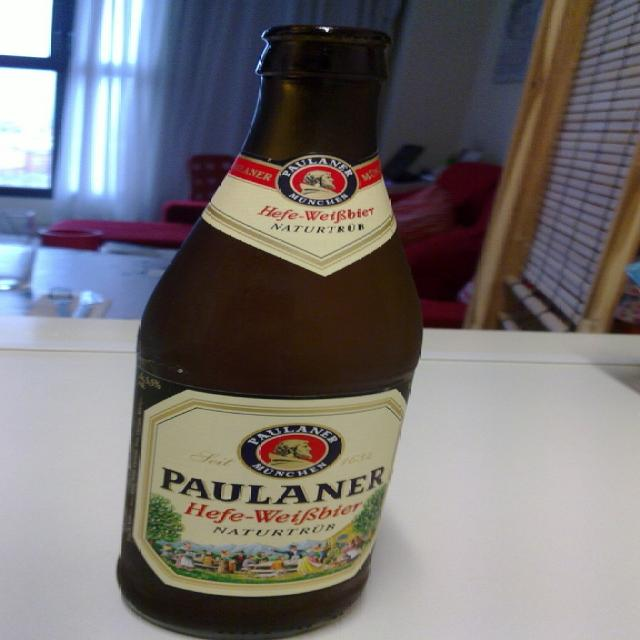paulaner: (239, 426, 342, 479), (275, 157, 361, 208)
